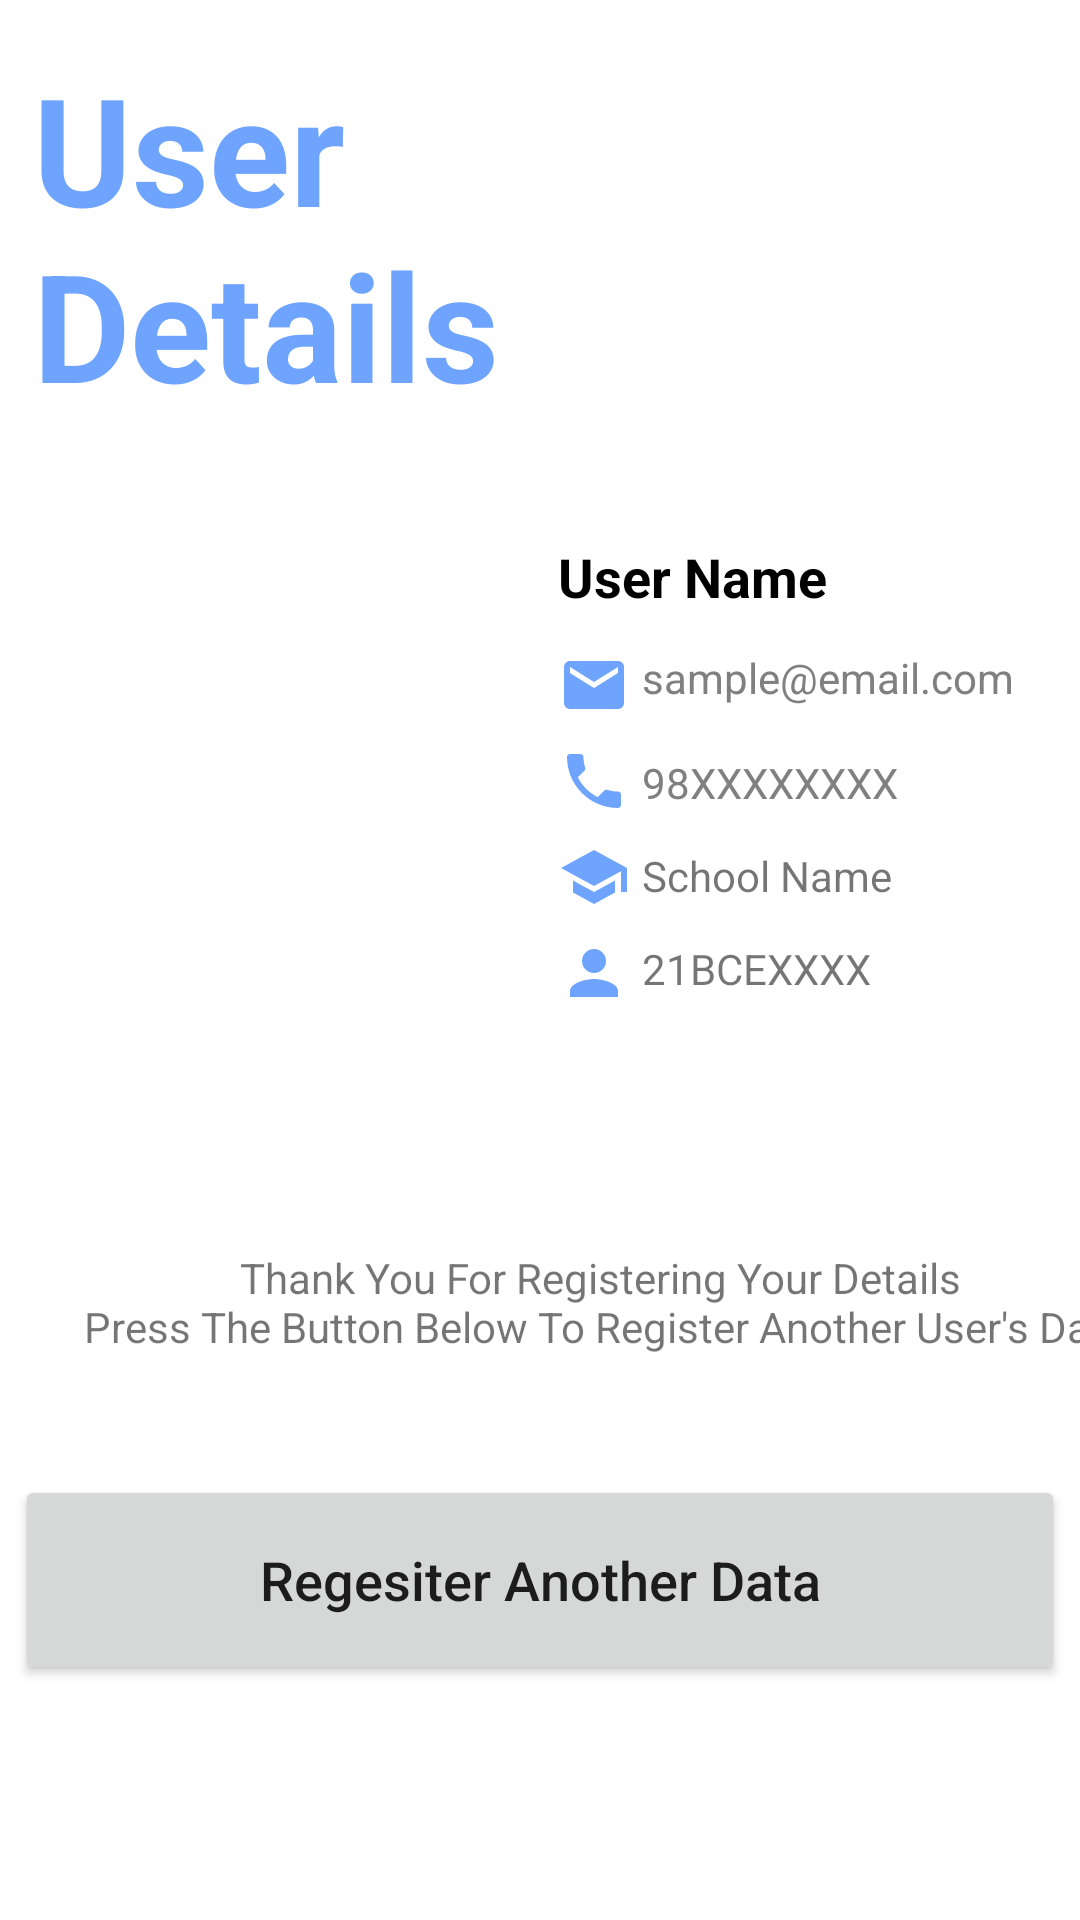

Icon click points for this 1080×1920 phone screenshot, format (x,y):
phone icon: (594,781)
